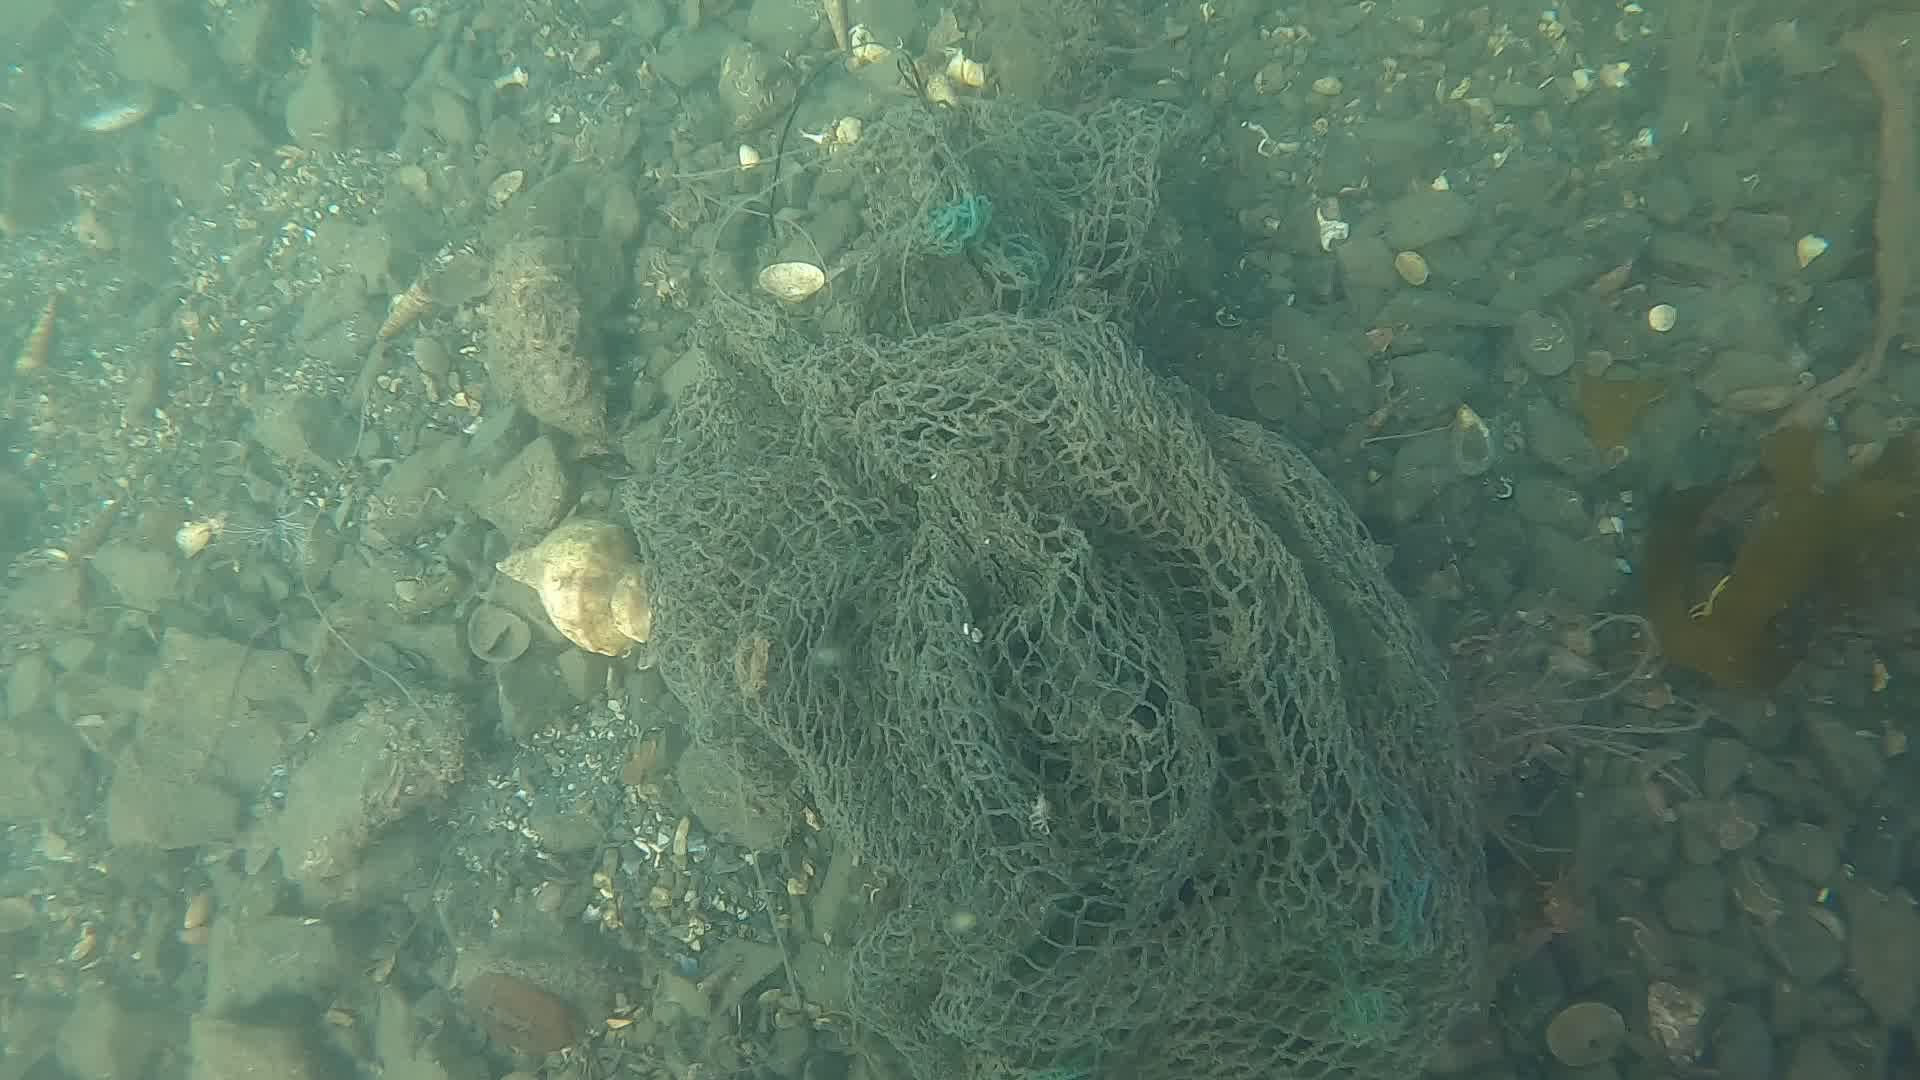fish net: (618, 166, 1485, 1080)
